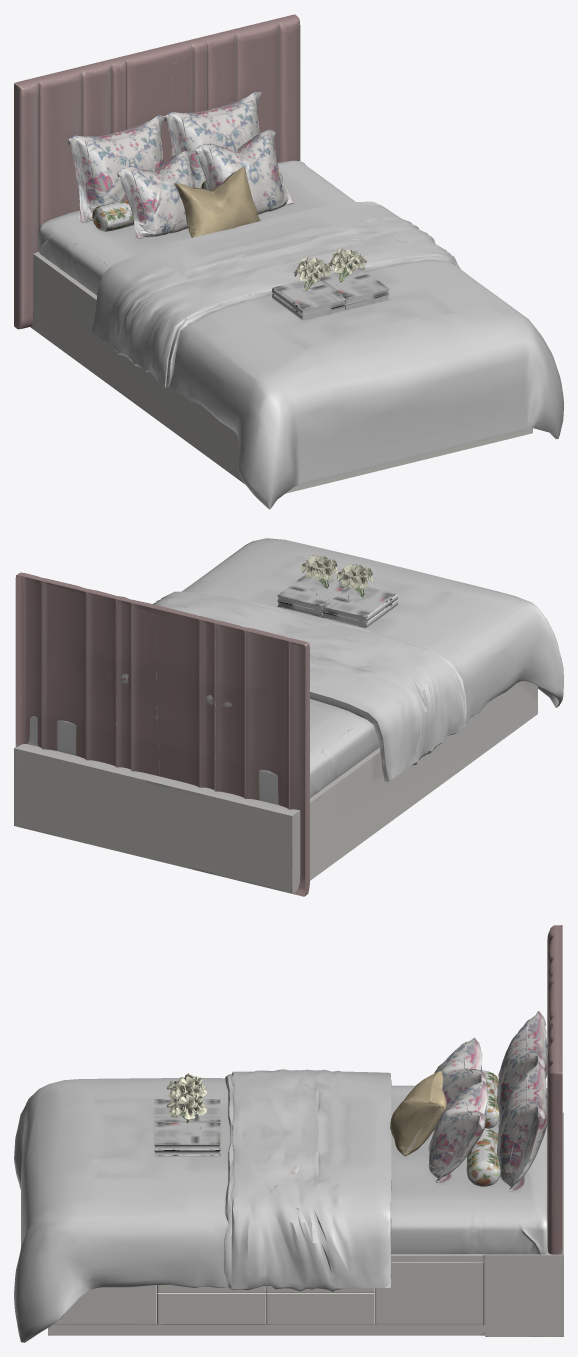
The model's file is raw_model.obj.
3 views of the same model, one above another, from view 1: azimuth 30°, elevation 25°; view 2: azimuth 150°, elevation 25°; view 3: azimuth 270°, elevation 25° (orthographic). The views are drawn at different scales.
Visible parts, largest first — view 1: solid_013, solid_002, solid_004, solid_006, solid_005, solid_007, solid_001, glass_002, solid_003; view 2: solid_004, solid_005, solid_002, solid_013, solid_007, glass_002; view 3: solid_002, solid_013, solid_005, solid_006, solid_004, solid_007, solid_001, solid_003, glass_002.
Part boxes in pixels (x1,y1,x2,y2): solid_013: (121, 256, 563, 509); solid_002: (38, 160, 556, 501); solid_004: (14, 14, 300, 329); solid_006: (68, 91, 293, 238); solid_005: (30, 251, 532, 493); solid_007: (272, 267, 389, 320); solid_001: (174, 166, 260, 237); glass_002: (293, 249, 367, 282); solid_003: (92, 170, 282, 231); solid_004: (15, 572, 309, 896); solid_005: (14, 681, 537, 893); solid_002: (27, 591, 559, 805); solid_013: (182, 538, 563, 762); solid_007: (277, 574, 397, 628); glass_002: (300, 555, 373, 589); solid_002: (23, 1069, 548, 1342); solid_013: (14, 1074, 362, 1342); solid_005: (48, 1112, 563, 1336); solid_006: (428, 1011, 547, 1191); solid_004: (547, 925, 562, 1254); solid_007: (154, 1099, 220, 1156); solid_001: (390, 1071, 447, 1156); solid_003: (466, 1070, 500, 1186); glass_002: (166, 1073, 207, 1119).
Size of the model in its own units: 1.54 by 1.13 by 2.14.
Materials: 1 (1 with a texture image).
